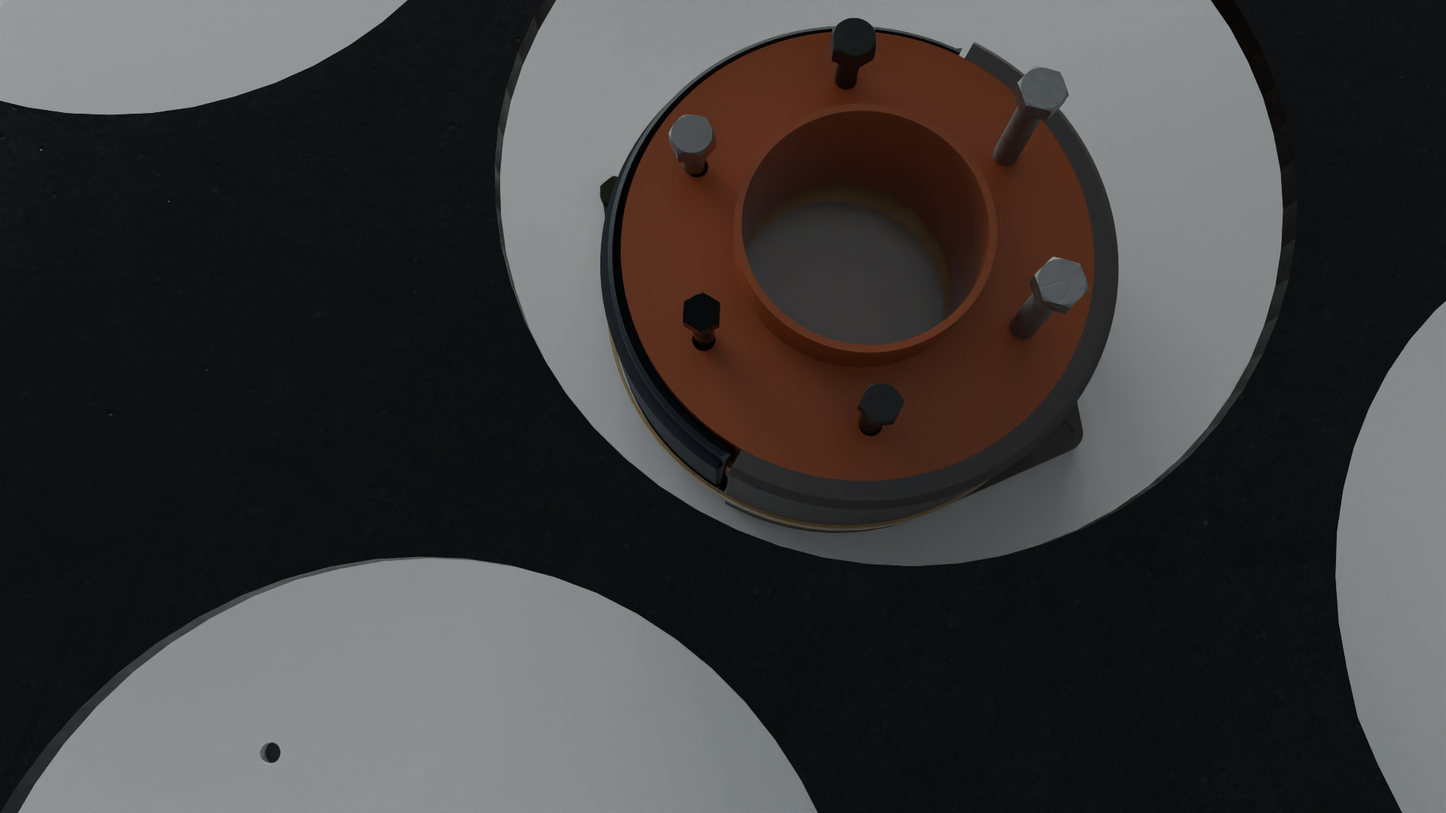bolt: (1034, 257, 1089, 308), (1017, 66, 1069, 112), (668, 114, 715, 157), (832, 18, 876, 62), (859, 383, 905, 423), (683, 292, 720, 333)
